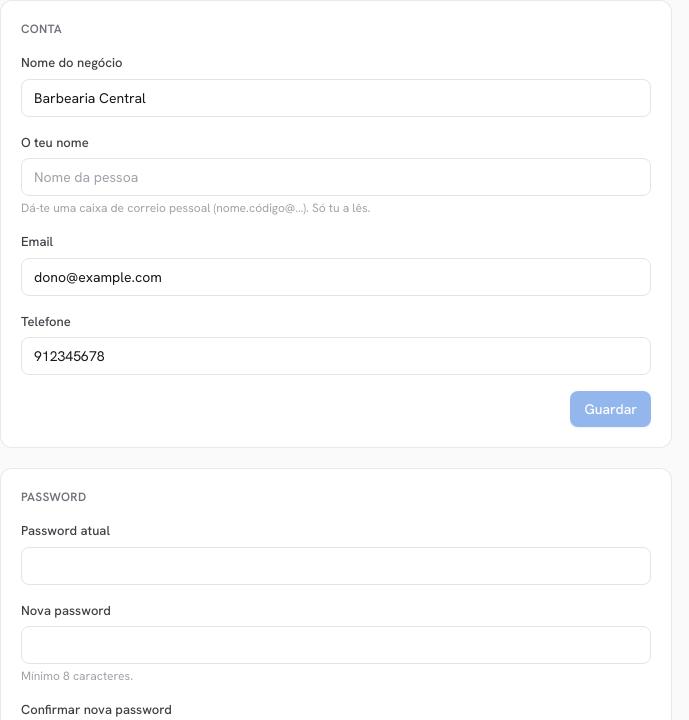
Test: Perfil — Conta › mudar o email revela o campo de password atual (e não aparece antes)
The image size is (689, 720).
Expected: the field labelled "Password atual (para mudar o email)" is not shown
Replace the text in the field labelled "Email" with "novo@example.com": point(336, 276) [21,258,651,296]
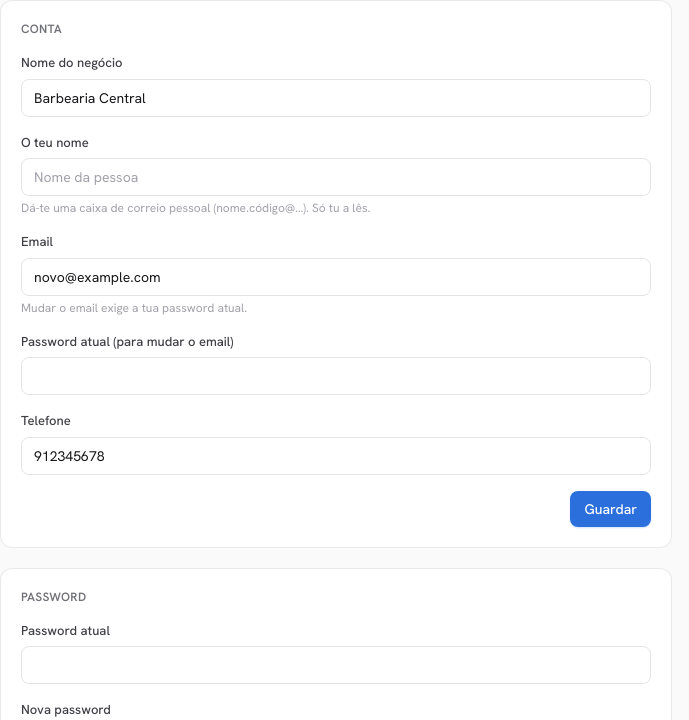
Expected: the password field labelled "Password atual (para mudar o email)" is shown, [21,357,651,395]
